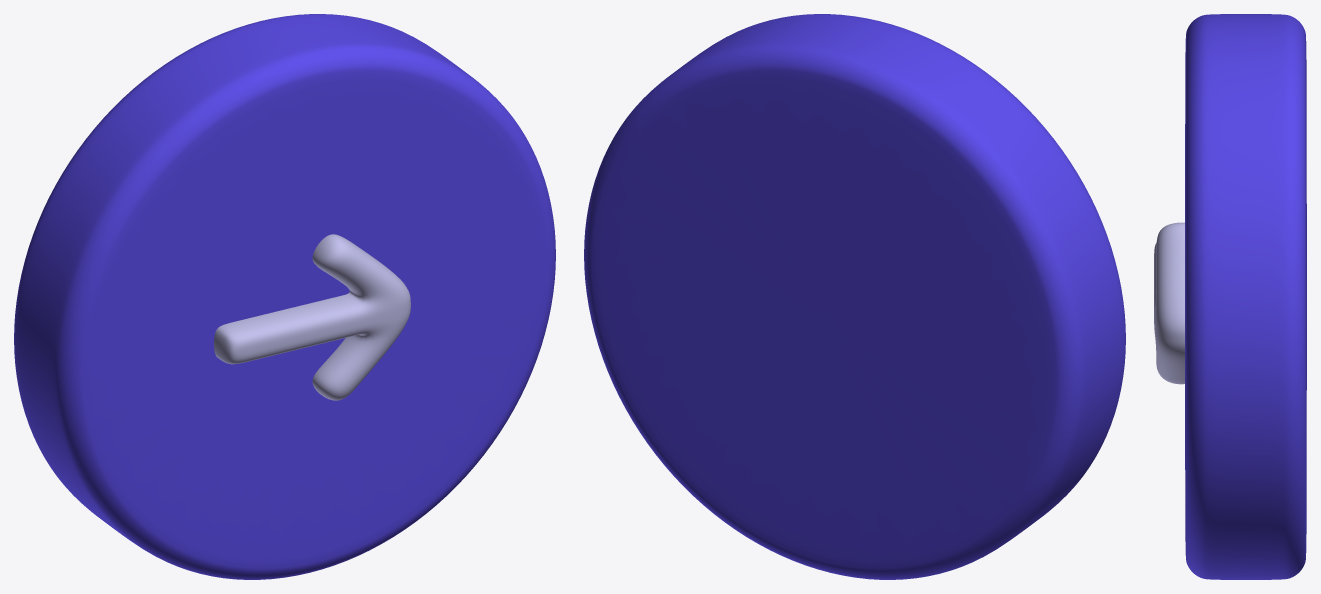
Rendered from go-next-animated-3d-icon-284718870709.glb.
The picture shows the model from 3 angles, left to right: view 1: azimuth 30°, elevation 25°; view 2: azimuth 150°, elevation 25°; view 3: azimuth 270°, elevation 25°; orthographic projection.
Parts seen in each view (by area): view 1: Base.010, Arrow Base.008; view 2: Base.010; view 3: Base.010, Arrow Base.008.
Boxes of the visible parts, x1=… form: Base.010: x1=14, y1=14, x2=555, y2=579; Arrow Base.008: x1=214, y1=234, x2=410, y2=400; Base.010: x1=584, y1=14, x2=1125, y2=579; Base.010: x1=1185, y1=14, x2=1306, y2=579; Arrow Base.008: x1=1154, y1=222, x2=1184, y2=384.
Size of the model in its own units: 1.99 by 1.99 by 0.5365.
